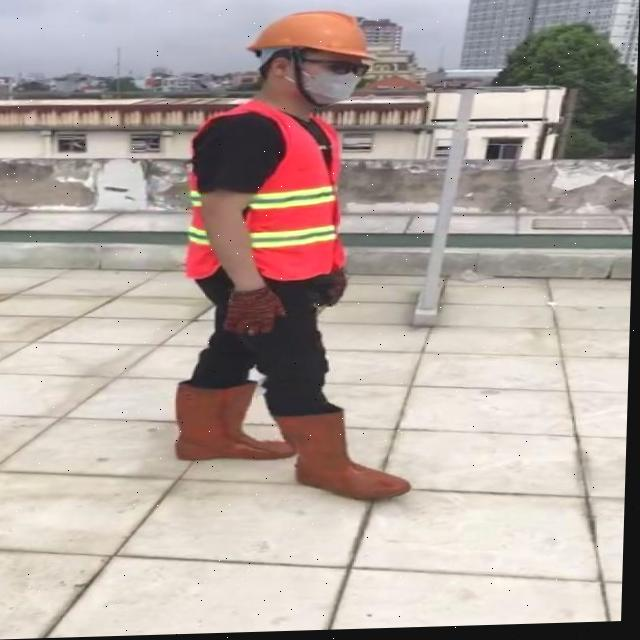Gloves: (226, 285, 290, 339), (319, 270, 350, 309)
Helmet: (247, 11, 382, 69)
Safety-Boot: (275, 405, 418, 505), (176, 377, 301, 464)
Safety-Vest: (186, 100, 350, 287)
